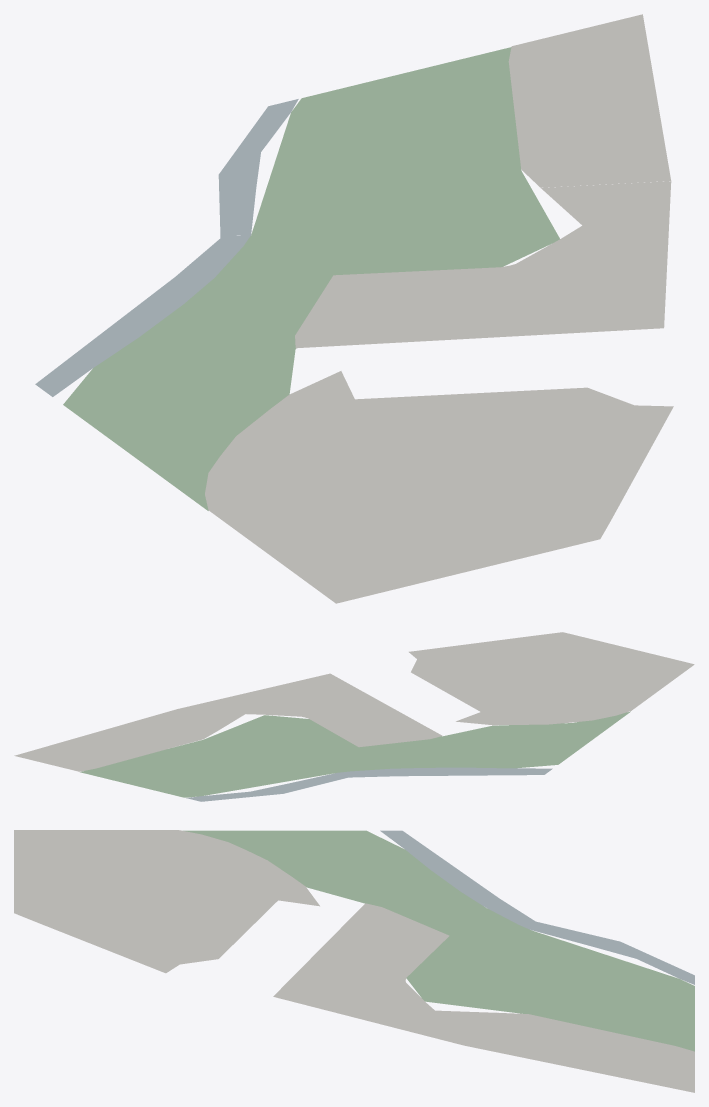
File: 99_94_mid.glb
3 renders of one model, top to bottom at view 1: azimuth 30°, elevation 25°; view 2: azimuth 150°, elevation 25°; view 3: azimuth 270°, elevation 25°, orthographic. The views are drawn at different scales.
Bounding box in the file's own units: 456 × 0.5526 × 500.
